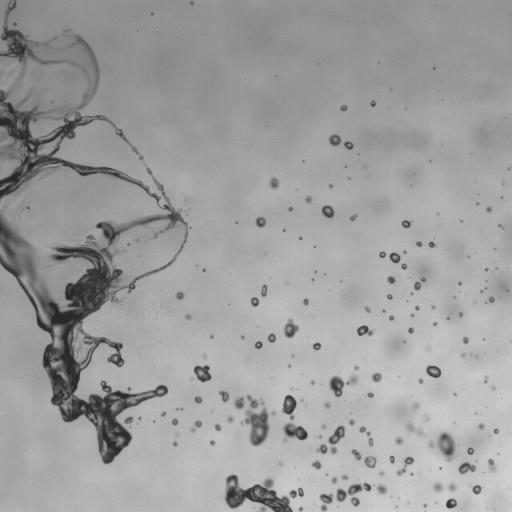droplet: (232, 394, 276, 447), (328, 373, 358, 397), (437, 431, 456, 463), (283, 317, 300, 339), (193, 365, 211, 383), (458, 461, 476, 474), (426, 364, 442, 378), (356, 325, 375, 336), (468, 483, 484, 495), (321, 205, 334, 218), (431, 480, 444, 493), (328, 134, 341, 146), (364, 456, 377, 468), (487, 458, 497, 472), (389, 252, 401, 263), (218, 390, 229, 402), (445, 498, 457, 509), (255, 216, 266, 227), (7, 55, 18, 66), (41, 174, 52, 185), (293, 198, 304, 209), (149, 204, 160, 215), (4, 214, 15, 225), (16, 226, 27, 237), (100, 300, 111, 311), (384, 300, 395, 311), (432, 309, 443, 320), (81, 315, 92, 326), (40, 332, 51, 343), (360, 371, 371, 382), (40, 374, 51, 385), (366, 380, 377, 391), (74, 387, 85, 398), (235, 408, 246, 419), (181, 417, 192, 428), (202, 419, 213, 430), (87, 426, 98, 437), (450, 430, 461, 441), (402, 432, 413, 443), (454, 452, 465, 463), (376, 457, 387, 468), (476, 459, 487, 470), (452, 472, 463, 483), (368, 475, 379, 486), (238, 479, 249, 490), (216, 484, 227, 495), (325, 484, 336, 495), (288, 497, 299, 508), (269, 177, 279, 189), (371, 372, 382, 382), (351, 449, 361, 460), (446, 482, 457, 492), (311, 459, 321, 469), (267, 332, 276, 343), (175, 291, 185, 300), (401, 220, 412, 228), (428, 238, 437, 247), (250, 297, 259, 306), (226, 414, 235, 423), (394, 436, 403, 445), (79, 107, 88, 116), (68, 168, 77, 177), (171, 201, 180, 210), (66, 239, 75, 248), (386, 283, 395, 292), (92, 329, 101, 338), (275, 329, 284, 338), (78, 370, 87, 379), (416, 407, 425, 416), (166, 410, 175, 419), (115, 413, 124, 422), (280, 413, 289, 422), (265, 416, 274, 425), (291, 417, 300, 426), (412, 418, 421, 427), (447, 427, 456, 436), (398, 428, 407, 437), (210, 430, 219, 439), (430, 433, 439, 442), (419, 436, 428, 445), (315, 452, 324, 461), (436, 452, 445, 461), (465, 454, 474, 463), (394, 459, 403, 468), (347, 476, 356, 485), (377, 476, 386, 485), (442, 490, 451, 499), (344, 141, 353, 149), (413, 281, 421, 290), (253, 341, 262, 349), (312, 342, 321, 350), (411, 401, 419, 410), (234, 505, 245, 511), (347, 505, 358, 511), (304, 195, 312, 203), (399, 262, 407, 270), (387, 276, 395, 284), (485, 296, 494, 303), (349, 214, 357, 221), (364, 305, 371, 313), (462, 336, 469, 344), (194, 396, 202, 403), (214, 423, 221, 431), (0, 2, 5, 13), (0, 39, 5, 50), (0, 124, 5, 135), (0, 168, 5, 179), (0, 0, 10, 5), (340, 104, 347, 111), (379, 251, 386, 258), (302, 298, 309, 305), (184, 313, 191, 320), (424, 345, 431, 352), (171, 418, 178, 425), (348, 418, 355, 425), (477, 422, 484, 429), (467, 447, 474, 454), (7, 23, 14, 30), (72, 27, 79, 34), (81, 33, 88, 40), (88, 41, 95, 48), (96, 58, 103, 65), (98, 67, 105, 74), (97, 79, 104, 86), (96, 83, 103, 90), (1, 84, 8, 91), (337, 142, 344, 149), (87, 173, 94, 180), (263, 180, 270, 187), (277, 180, 284, 187), (1, 194, 8, 201), (479, 202, 486, 209), (101, 215, 108, 222), (421, 241, 428, 248), (6, 272, 13, 279), (114, 291, 121, 298), (482, 291, 489, 298), (99, 303, 106, 310), (42, 330, 49, 337), (110, 335, 117, 342), (261, 338, 268, 345), (98, 342, 105, 349), (37, 348, 44, 355), (119, 348, 126, 355), (36, 355, 43, 362), (323, 381, 330, 388), (341, 384, 348, 391), (120, 386, 127, 393), (46, 390, 53, 397), (99, 390, 106, 397), (251, 392, 258, 399), (82, 395, 89, 402), (227, 396, 234, 403), (173, 411, 180, 418), (78, 413, 85, 420), (165, 414, 172, 421), (475, 416, 482, 423), (401, 417, 408, 424), (232, 418, 239, 425), (353, 421, 360, 428), (122, 422, 129, 429), (244, 423, 251, 430), (343, 423, 350, 430), (327, 428, 334, 435), (278, 430, 285, 437), (290, 435, 297, 442), (91, 438, 98, 445), (260, 440, 267, 447), (325, 442, 332, 449), (120, 447, 127, 454), (95, 454, 102, 461), (113, 454, 120, 461), (405, 464, 412, 471), (485, 470, 492, 477), (264, 471, 271, 478), (357, 478, 364, 485), (441, 480, 448, 487), (426, 482, 433, 489), (341, 484, 348, 491), (370, 485, 377, 492), (385, 487, 392, 494), (330, 490, 337, 497), (275, 491, 282, 498), (354, 491, 361, 498), (381, 492, 388, 499), (344, 494, 351, 501), (220, 500, 227, 507), (254, 501, 261, 508), (324, 401, 330, 409), (428, 440, 434, 448), (389, 454, 394, 463), (351, 506, 360, 511), (415, 241, 422, 247), (408, 327, 414, 334), (341, 474, 348, 480), (331, 476, 337, 483), (483, 375, 488, 383), (314, 434, 322, 439), (486, 206, 492, 212), (309, 379, 315, 385), (490, 385, 496, 391), (423, 415, 429, 421), (378, 470, 384, 476), (497, 224, 504, 229), (386, 294, 393, 299), (389, 314, 394, 321), (202, 353, 207, 360), (418, 377, 423, 384), (370, 100, 375, 106), (420, 277, 426, 282), (460, 352, 466, 357), (353, 365, 359, 370), (367, 392, 373, 397), (161, 411, 166, 417), (493, 428, 498, 434), (265, 507, 272, 511), (291, 507, 298, 511), (447, 507, 454, 511), (288, 206, 293, 211), (484, 266, 489, 271), (414, 305, 419, 310), (430, 304, 435, 309), (458, 312, 463, 317), (432, 321, 437, 326), (321, 424, 326, 429), (172, 441, 177, 446), (210, 440, 215, 445), (15, 1, 20, 6), (2, 5, 7, 10), (9, 9, 14, 14), (57, 29, 62, 34), (21, 30, 26, 35), (48, 33, 53, 38), (37, 38, 42, 43), (94, 54, 99, 59), (97, 62, 102, 67), (93, 92, 98, 97), (338, 100, 343, 105), (335, 104, 340, 109), (93, 110, 98, 115), (101, 111, 106, 116), (105, 113, 110, 118), (116, 123, 121, 128), (332, 129, 337, 134), (335, 130, 340, 135), (325, 140, 330, 145), (339, 140, 344, 145), (131, 141, 136, 146), (151, 169, 156, 174), (78, 174, 83, 179), (123, 180, 128, 185), (134, 184, 139, 189), (162, 186, 167, 191), (272, 187, 277, 192), (306, 191, 311, 196), (301, 193, 306, 198), (300, 198, 305, 203), (322, 200, 327, 205), (328, 201, 333, 206), (486, 201, 491, 206), (332, 206, 337, 211), (481, 207, 486, 212), (179, 211, 184, 216), (348, 211, 353, 216), (486, 211, 491, 216), (255, 212, 260, 217), (332, 213, 337, 218), (320, 214, 325, 219), (182, 216, 187, 221), (264, 217, 269, 222), (94, 218, 99, 223), (252, 223, 257, 228), (258, 226, 263, 231), (406, 226, 411, 231), (97, 227, 102, 232), (85, 230, 90, 235), (430, 246, 435, 251), (390, 247, 395, 252), (385, 250, 390, 255), (397, 250, 402, 255), (177, 252, 182, 257), (384, 254, 389, 259), (398, 258, 403, 263), (170, 262, 175, 267), (488, 265, 493, 270), (156, 270, 161, 275), (151, 272, 156, 277), (310, 272, 315, 277), (422, 272, 427, 277), (392, 273, 397, 278), (143, 275, 148, 280), (134, 280, 139, 285), (384, 280, 389, 285), (419, 281, 424, 286), (482, 281, 487, 286), (390, 282, 395, 287), (409, 285, 414, 290), (17, 286, 22, 291), (176, 286, 181, 291), (19, 289, 24, 294), (182, 289, 187, 294), (413, 289, 418, 294), (265, 290, 270, 295), (256, 294, 261, 299), (23, 295, 28, 300), (175, 298, 180, 303), (179, 298, 184, 303), (298, 299, 303, 304), (307, 299, 312, 304), (246, 300, 251, 305), (27, 302, 32, 307), (367, 303, 372, 308), (186, 309, 191, 314), (361, 309, 366, 314), (412, 309, 417, 314), (462, 311, 467, 316), (179, 312, 184, 317), (384, 312, 389, 317), (190, 313, 195, 318), (183, 318, 188, 323), (32, 319, 37, 324), (282, 319, 287, 324), (292, 319, 297, 324), (357, 321, 362, 326), (408, 322, 413, 327), (367, 325, 372, 330), (264, 330, 269, 335), (293, 331, 298, 336), (362, 332, 367, 337), (409, 332, 414, 337), (464, 332, 469, 337), (103, 333, 108, 338), (458, 339, 463, 344), (467, 339, 472, 344), (308, 345, 313, 350), (259, 346, 264, 351), (111, 348, 116, 353), (120, 353, 125, 358), (464, 353, 469, 358), (287, 358, 292, 363), (353, 360, 358, 365), (192, 361, 197, 366), (432, 361, 437, 366), (199, 362, 204, 367), (111, 363, 116, 368), (189, 364, 194, 369), (438, 365, 443, 370), (207, 368, 212, 373), (421, 368, 426, 373), (353, 369, 358, 374), (370, 369, 375, 374), (191, 373, 196, 378), (427, 375, 432, 380), (435, 376, 440, 381), (341, 377, 346, 382), (379, 377, 384, 382), (368, 378, 373, 383), (486, 378, 491, 383), (196, 379, 201, 384), (204, 379, 209, 384), (157, 380, 162, 385), (161, 380, 166, 385), (376, 380, 381, 385), (76, 381, 81, 386), (313, 381, 318, 386), (150, 385, 155, 390), (166, 385, 171, 390), (221, 386, 226, 391), (110, 387, 115, 392), (329, 389, 334, 394), (288, 390, 293, 395), (195, 391, 200, 396), (161, 394, 166, 399), (216, 394, 221, 399), (339, 394, 344, 399), (153, 395, 158, 400), (293, 395, 298, 400), (279, 397, 284, 402), (415, 397, 420, 402), (145, 398, 150, 403), (140, 400, 145, 405), (191, 400, 196, 405), (295, 401, 300, 406), (319, 401, 324, 406), (278, 403, 283, 408), (418, 403, 423, 408), (53, 404, 58, 409), (323, 407, 328, 412), (292, 408, 297, 413), (349, 414, 354, 419), (132, 416, 137, 421), (192, 416, 197, 421), (198, 416, 203, 421), (352, 416, 357, 421), (177, 418, 182, 423), (215, 419, 220, 424), (319, 419, 324, 424), (482, 420, 487, 425), (473, 422, 478, 427), (200, 423, 205, 428), (171, 424, 176, 429), (302, 425, 307, 430), (195, 426, 200, 431), (210, 426, 215, 431), (365, 426, 370, 431), (478, 428, 483, 433), (213, 429, 218, 434), (497, 430, 502, 435), (306, 431, 311, 436), (361, 431, 366, 436), (409, 431, 414, 436), (208, 435, 213, 440), (417, 435, 422, 440), (171, 436, 176, 441), (175, 437, 180, 442), (338, 437, 343, 442), (301, 438, 306, 443), (390, 438, 395, 443), (128, 440, 133, 445), (167, 441, 172, 446), (315, 442, 320, 447), (333, 442, 338, 447), (397, 443, 402, 448), (356, 447, 361, 452), (325, 449, 330, 454), (333, 452, 338, 457), (408, 452, 413, 457), (360, 454, 365, 459), (393, 455, 398, 460), (310, 457, 315, 462), (359, 457, 364, 462), (493, 459, 498, 464), (483, 460, 488, 465), (311, 466, 316, 471), (368, 467, 373, 472), (474, 467, 479, 472), (466, 469, 471, 474), (227, 470, 232, 475), (344, 470, 349, 475), (400, 472, 405, 477), (327, 474, 332, 479), (394, 474, 399, 479), (353, 479, 358, 484), (366, 479, 371, 484), (471, 480, 476, 485), (478, 481, 483, 486), (467, 487, 472, 492), (302, 488, 307, 493), (479, 489, 484, 494), (324, 490, 329, 495), (295, 494, 300, 499), (394, 499, 399, 504), (441, 499, 446, 504), (318, 500, 323, 505), (325, 502, 330, 507), (184, 195, 188, 201), (126, 240, 130, 246), (175, 431, 179, 437), (0, 27, 3, 34), (0, 264, 3, 271), (189, 0, 193, 5), (328, 184, 333, 188), (402, 250, 407, 254), (240, 334, 244, 339), (190, 375, 194, 380), (289, 386, 293, 391), (278, 462, 283, 466), (422, 503, 427, 507), (298, 506, 302, 511), (363, 164, 367, 168), (507, 166, 511, 170), (459, 219, 463, 223), (382, 309, 386, 313), (410, 313, 414, 317), (209, 334, 213, 338), (402, 339, 406, 343), (474, 354, 478, 358), (287, 363, 291, 367), (453, 392, 457, 396), (438, 466, 442, 470), (406, 501, 410, 505), (394, 504, 398, 508), (12, 22, 17, 25), (501, 180, 504, 185), (301, 508, 306, 511), (317, 508, 322, 511), (393, 508, 398, 511), (150, 12, 154, 15), (298, 236, 302, 239), (195, 264, 199, 267), (202, 268, 206, 271), (458, 281, 461, 285), (285, 282, 289, 285), (446, 316, 450, 319), (291, 354, 295, 357), (138, 416, 141, 420), (410, 472, 413, 476), (15, 0, 20, 2), (192, 0, 197, 2), (404, 107, 407, 110), (347, 177, 350, 180), (500, 196, 503, 199), (476, 202, 479, 205), (436, 212, 439, 215), (282, 228, 285, 231), (493, 247, 496, 250), (467, 255, 470, 258), (314, 270, 317, 273), (311, 278, 314, 281), (484, 286, 487, 289), (506, 289, 509, 292), (480, 290, 483, 293), (410, 292, 413, 295), (453, 296, 456, 299), (152, 420, 155, 423), (389, 495, 392, 498), (151, 9, 154, 12), (147, 12, 150, 15), (153, 12, 156, 15), (150, 15, 153, 18), (64, 26, 67, 29), (434, 64, 437, 67), (429, 65, 432, 68), (367, 100, 370, 103), (344, 102, 347, 105), (374, 103, 377, 106), (368, 104, 371, 107), (346, 106, 349, 109), (340, 110, 343, 113), (112, 120, 115, 123), (121, 130, 124, 133), (352, 144, 355, 147), (344, 147, 347, 150), (349, 148, 352, 151), (137, 149, 140, 152), (359, 152, 362, 155), (301, 156, 304, 159), (428, 156, 431, 159), (142, 157, 145, 160), (304, 159, 307, 162), (431, 159, 434, 162), (299, 160, 302, 163), (341, 164, 344, 167), (346, 164, 349, 167), (506, 164, 509, 167), (147, 165, 150, 168), (344, 167, 347, 170), (504, 167, 507, 170), (346, 179, 349, 182), (328, 180, 331, 183), (159, 181, 162, 184), (332, 183, 335, 186), (326, 186, 329, 189), (330, 187, 333, 190), (499, 192, 502, 195), (497, 195, 500, 198), (500, 198, 503, 201), (477, 199, 480, 202), (24, 203, 27, 206), (473, 203, 476, 206), (476, 204, 479, 207), (29, 205, 32, 208), (18, 207, 21, 210), (285, 207, 288, 210), (292, 207, 295, 210), (24, 208, 27, 211), (16, 210, 19, 213), (290, 210, 293, 213), (460, 216, 463, 219), (354, 217, 357, 220), (407, 218, 410, 221), (232, 219, 235, 222), (237, 219, 240, 222), (348, 219, 351, 222), (462, 219, 465, 222), (497, 220, 500, 223), (457, 221, 460, 224), (187, 223, 190, 226), (234, 223, 237, 226), (409, 223, 412, 226), (494, 223, 497, 226), (282, 225, 285, 228), (401, 226, 404, 229), (498, 226, 501, 229), (503, 226, 506, 229), (279, 228, 282, 231), (285, 228, 288, 231), (282, 231, 285, 234), (299, 233, 302, 236), (186, 234, 189, 237), (295, 236, 298, 239), (417, 238, 420, 241), (429, 238, 432, 241), (298, 239, 301, 242), (432, 240, 435, 243), (183, 242, 186, 245), (310, 243, 313, 246), (492, 244, 495, 247), (312, 247, 315, 250), (404, 247, 407, 250), (379, 248, 382, 251), (376, 251, 379, 254), (493, 263, 496, 266), (406, 264, 409, 267), (166, 265, 169, 268), (481, 267, 484, 270), (199, 268, 202, 271), (205, 268, 208, 271), (400, 268, 403, 271), (404, 268, 407, 271), (316, 269, 319, 272), (322, 269, 325, 272), (487, 269, 490, 272), (202, 271, 205, 274), (322, 274, 325, 277), (339, 276, 342, 279), (484, 276, 487, 279), (308, 279, 311, 282), (418, 279, 421, 282), (312, 280, 315, 283), (263, 281, 266, 284), (455, 283, 458, 286), (460, 283, 463, 286), (266, 287, 269, 290), (482, 288, 485, 291), (476, 289, 479, 292), (388, 291, 391, 294), (452, 292, 455, 295), (391, 293, 394, 296), (250, 294, 253, 297), (409, 294, 412, 297), (306, 296, 309, 299), (385, 297, 388, 300), (389, 298, 392, 301), (493, 299, 496, 302), (257, 302, 260, 305), (414, 302, 417, 305), (433, 302, 436, 305), (254, 305, 257, 308), (383, 306, 386, 309), (418, 306, 421, 309), (379, 307, 382, 310), (434, 307, 437, 310), (430, 308, 433, 311), (379, 310, 382, 313), (455, 312, 458, 315), (408, 315, 411, 318), (385, 316, 388, 319), (393, 316, 396, 319), (443, 316, 446, 319), (449, 316, 452, 319), (433, 318, 436, 321), (387, 319, 390, 322), (391, 319, 394, 322), (445, 319, 448, 322), (429, 322, 432, 325), (436, 323, 439, 326), (433, 325, 436, 328), (405, 327, 408, 330), (354, 330, 357, 333), (212, 333, 215, 336), (237, 334, 240, 337), (243, 335, 246, 338), (484, 336, 487, 339), (208, 337, 211, 340), (211, 337, 214, 340), (239, 338, 242, 341), (479, 338, 482, 341), (253, 339, 256, 342), (312, 340, 315, 343), (482, 340, 485, 343), (319, 341, 322, 344), (400, 341, 403, 344), (121, 342, 124, 345), (465, 342, 468, 345), (251, 343, 254, 346), (319, 346, 322, 349), (254, 347, 257, 350), (314, 349, 317, 352), (470, 355, 473, 358), (104, 358, 107, 361), (87, 363, 90, 366), (122, 363, 125, 366), (284, 363, 287, 366), (290, 364, 293, 367), (357, 364, 360, 367), (287, 367, 290, 370), (102, 377, 105, 380), (481, 377, 484, 380), (307, 379, 310, 382), (415, 380, 418, 383), (419, 383, 422, 386), (371, 390, 374, 393), (455, 390, 458, 393), (365, 395, 368, 398), (452, 395, 455, 398), (200, 396, 203, 399), (370, 396, 373, 399), (191, 398, 194, 401), (197, 402, 200, 405), (177, 405, 180, 408), (160, 409, 163, 412), (177, 409, 180, 412), (477, 410, 480, 413), (476, 413, 479, 416), (140, 416, 143, 419), (149, 418, 152, 421), (154, 421, 157, 424), (219, 424, 222, 427), (491, 426, 494, 429), (220, 427, 223, 430), (497, 427, 500, 430), (491, 431, 494, 434), (369, 434, 372, 437), (372, 439, 375, 442), (207, 442, 210, 445), (214, 442, 217, 445), (210, 444, 213, 447), (174, 445, 177, 448), (471, 445, 474, 448), (349, 447, 352, 450), (496, 449, 499, 452), (390, 452, 393, 455), (499, 452, 502, 455), (386, 455, 389, 458), (403, 455, 406, 458), (375, 456, 378, 459), (387, 460, 390, 463), (374, 463, 377, 466), (438, 463, 441, 466), (435, 466, 438, 469), (440, 468, 443, 471), (412, 471, 415, 474), (409, 475, 412, 478), (298, 484, 301, 487), (473, 493, 476, 496), (301, 495, 304, 498), (446, 496, 449, 499), (455, 499, 458, 502), (423, 500, 426, 503), (357, 503, 360, 506), (426, 503, 429, 506), (301, 504, 304, 507), (397, 504, 400, 507), (354, 505, 357, 508), (422, 507, 425, 510), (433, 66, 435, 69), (344, 165, 347, 167), (235, 221, 238, 223), (313, 245, 316, 247), (495, 267, 498, 269), (323, 273, 326, 275), (482, 338, 485, 340), (319, 382, 321, 385), (211, 409, 213, 412), (475, 459, 477, 462), (325, 473, 328, 475), (435, 501, 437, 504), (0, 55, 2, 58), (509, 167, 511, 170), (509, 288, 511, 291), (485, 509, 488, 511), (357, 153, 359, 155), (302, 160, 304, 162), (429, 160, 431, 162), (340, 280, 342, 282), (406, 300, 408, 302), (228, 303, 230, 305), (398, 375, 400, 377), (475, 412, 477, 414), (497, 453, 499, 455), (429, 469, 431, 471), (397, 497, 399, 499), (337, 505, 339, 507), (188, 0, 191, 1), (478, 193, 479, 195), (485, 280, 487, 281), (329, 289, 330, 291), (424, 510, 426, 511), (257, 326, 258, 327), (350, 412, 351, 413), (483, 472, 484, 473)
ligament: (279, 394, 308, 443), (315, 425, 345, 454), (395, 456, 414, 476), (404, 421, 426, 437), (358, 426, 373, 446), (190, 419, 202, 433), (260, 284, 267, 297), (299, 398, 307, 407), (453, 421, 458, 428), (175, 407, 183, 411), (135, 255, 142, 259), (510, 339, 511, 343), (156, 311, 159, 312), (458, 444, 460, 445)
